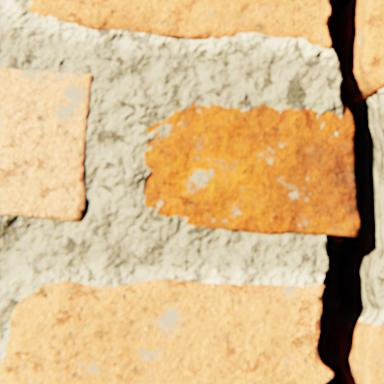brick: (145, 103, 358, 235), (0, 67, 93, 220)
broken_brick: (0, 278, 333, 383), (29, 0, 330, 49), (361, 0, 383, 89), (363, 325, 383, 383)
crack: (317, 0, 383, 383)
